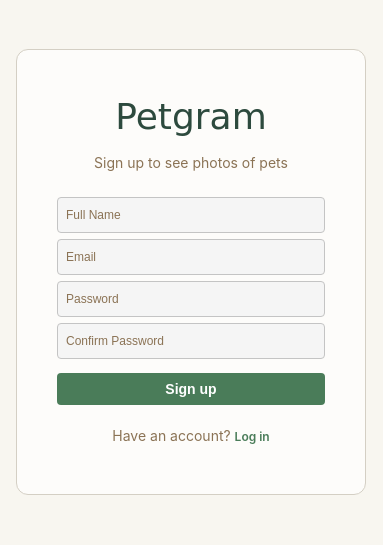
Test: Register Page › shows error for short name
The image size is (383, 545).
Type "A" into the field with placeholder "Full Name" at [191, 215], box [57, 197, 325, 233]
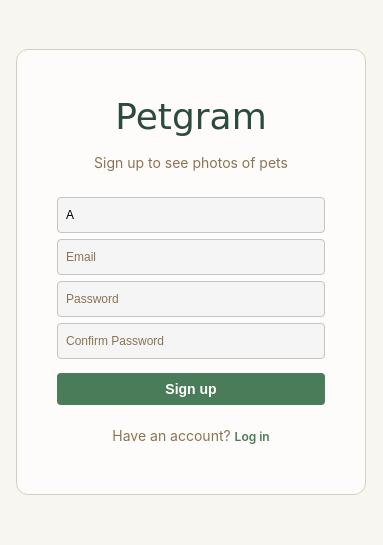
Click the button "Sign up" at [191, 389], box [57, 373, 325, 405]
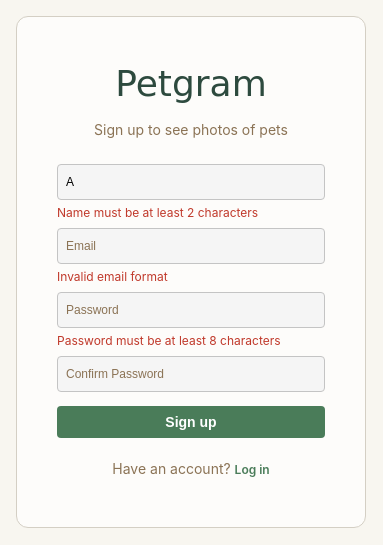
Result: the text "Name must be at least 2 characters" is shown at [57, 205, 258, 220]
